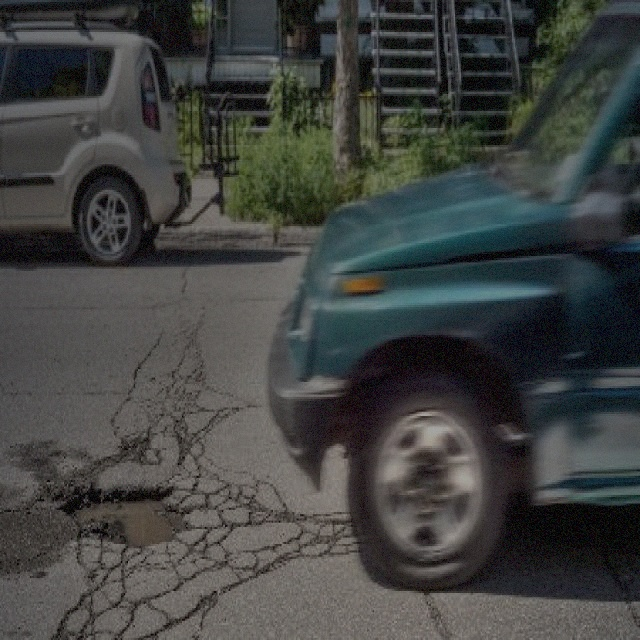pothole: (57, 482, 186, 544)
